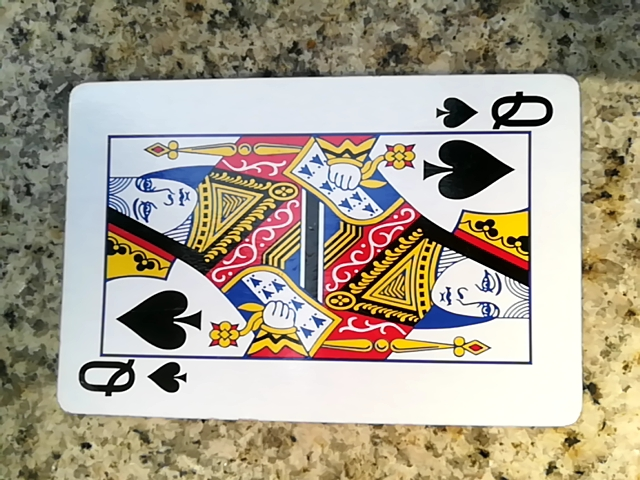ht q: (45, 86, 579, 454)
